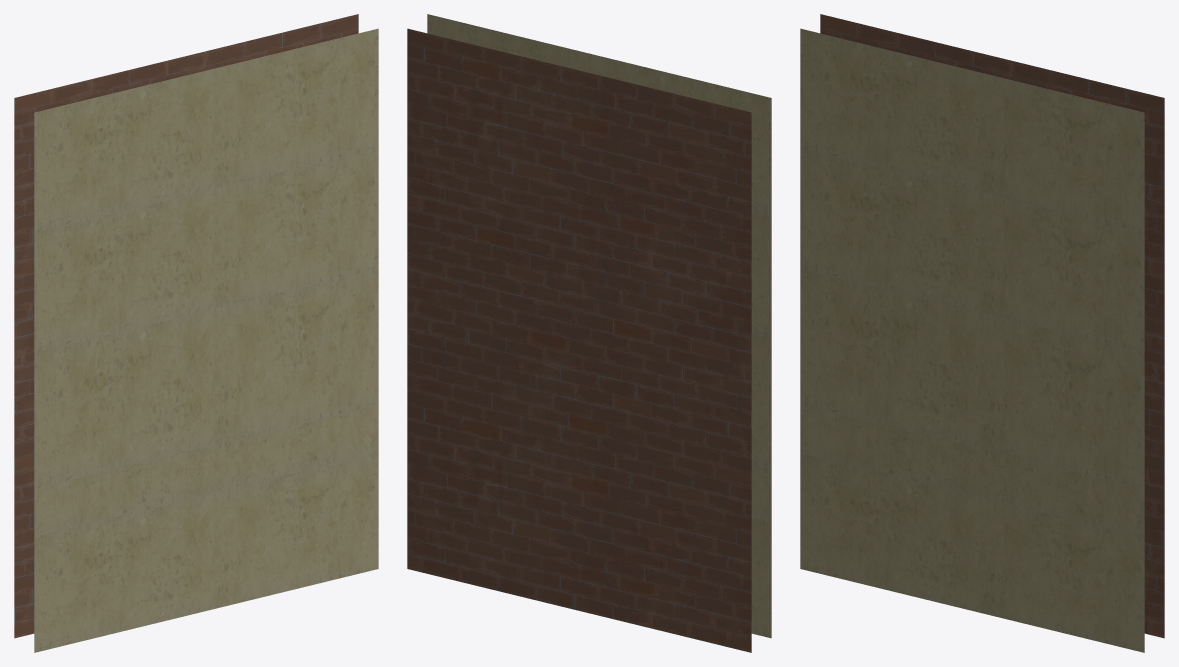
Rendered from Trim_Plain_3.gltf.
The picture shows the model from 3 angles, left to right: view 1: azimuth 30°, elevation 25°; view 2: azimuth 150°, elevation 25°; view 3: azimuth 330°, elevation 25°; orthographic projection.
Visible parts, largest first — view 1: Trim_Plain_3; view 2: Trim_Plain_3; view 3: Trim_Plain_3.
Boxes of the visible parts, x1,y1,x2,y2 form: Trim_Plain_3: (14,14,378,652); Trim_Plain_3: (407,14,771,652); Trim_Plain_3: (800,14,1164,652).
Bounding box in the file's own units: 2 × 3 × 0.2.
2 materials, 2 textured.
